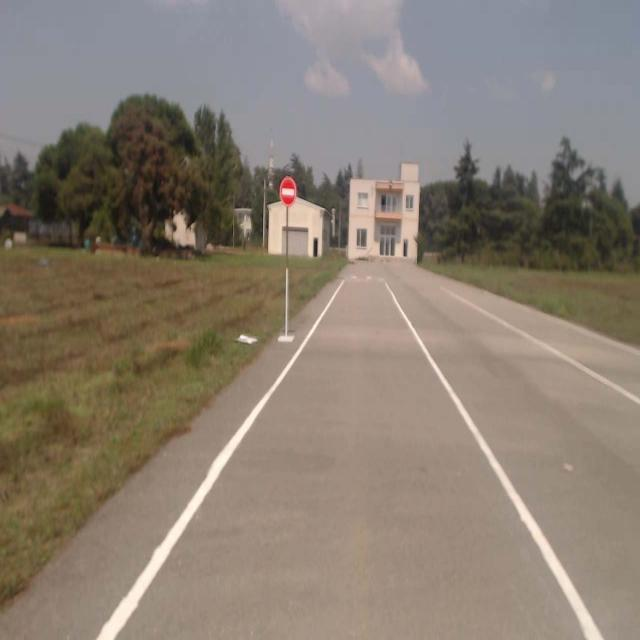girisyok: (277, 176, 299, 205)
